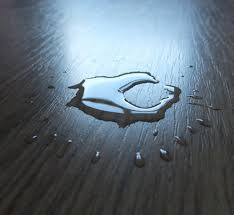Wet-floor: (123, 49, 221, 175), (60, 54, 196, 129), (28, 43, 95, 165), (177, 78, 227, 172), (97, 138, 208, 179)
